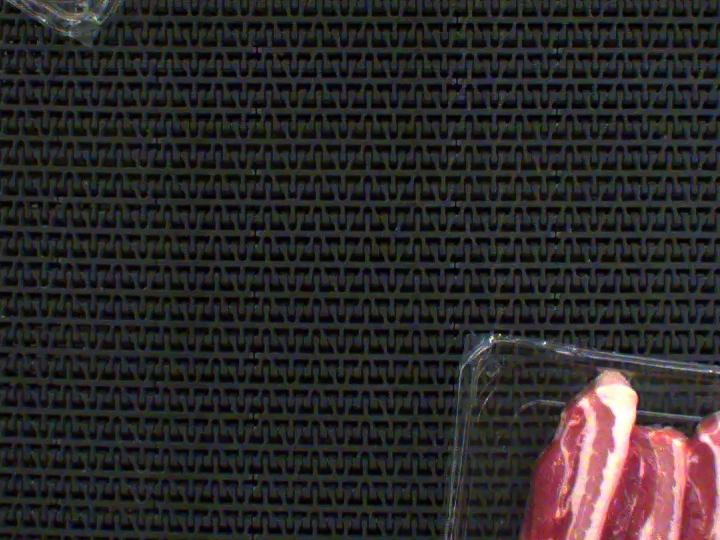packaging-error: (596, 362, 649, 396)
